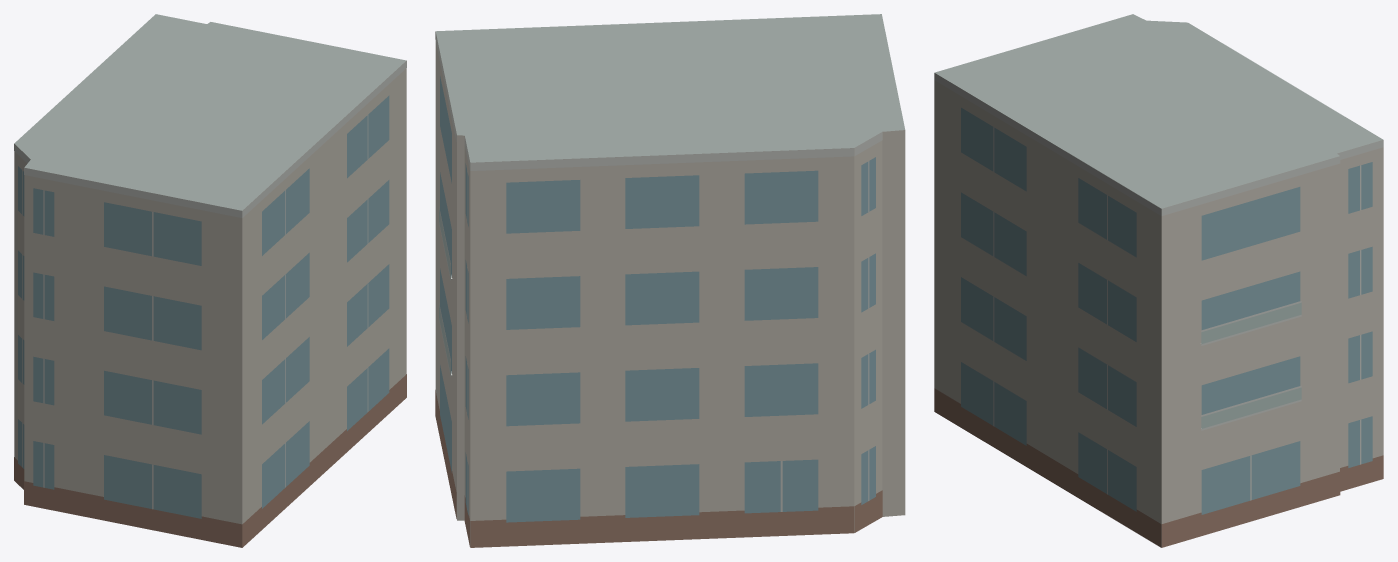
The model's file is survey-upis-32605343.glb.
The picture shows the model from 3 angles, left to right: view 1: azimuth 30°, elevation 25°; view 2: azimuth 150°, elevation 25°; view 3: azimuth 270°, elevation 25°; orthographic projection. The views are drawn at different scales.
Parts seen in each view (by area): view 1: survey-upis-32605343.tmp; view 2: survey-upis-32605343.tmp; view 3: survey-upis-32605343.tmp.
Part boxes in pixels (bbox=[...]): survey-upis-32605343.tmp: bbox=[14, 14, 406, 547]; survey-upis-32605343.tmp: bbox=[435, 14, 905, 547]; survey-upis-32605343.tmp: bbox=[934, 14, 1383, 547].
Size of the model in its own units: 13.75 by 11.15 by 13.4.
